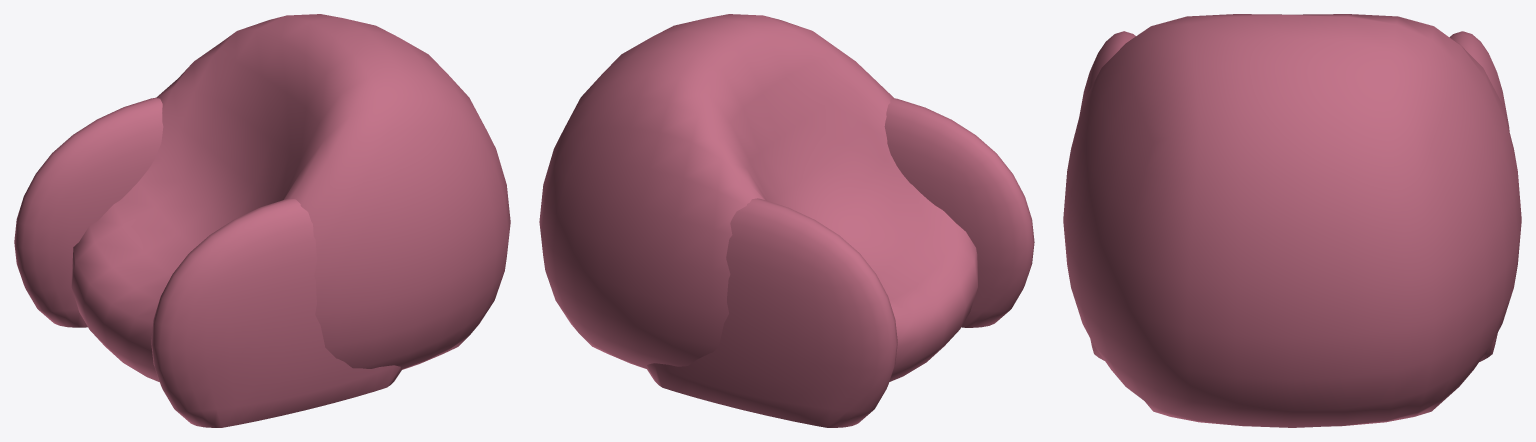
File: ARMCHAIR.fbx
3 renders of one model, left to right at view 1: azimuth 30°, elevation 25°; view 2: azimuth 150°, elevation 25°; view 3: azimuth 270°, elevation 25°, orthographic. The views are drawn at different scales.
Parts seen in each view (by area): view 1: ARMCHAIR; view 2: ARMCHAIR; view 3: ARMCHAIR.
Boxes of the visible parts, bbox=[...] form: ARMCHAIR: bbox=[14, 14, 510, 427]; ARMCHAIR: bbox=[539, 14, 1034, 427]; ARMCHAIR: bbox=[1063, 14, 1521, 427].
Size of the model in its own units: 11.07 by 7.66 by 8.97.
